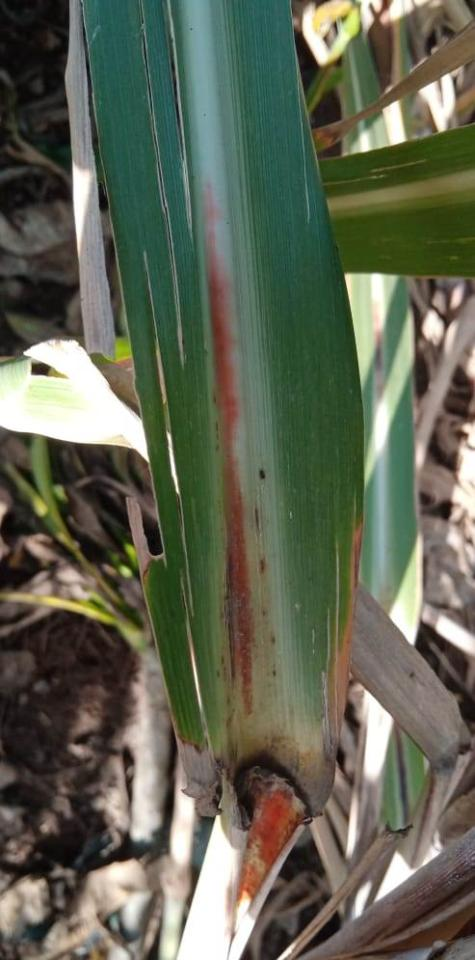RedRot: (204, 176, 258, 720)
Rust: (253, 504, 261, 535), (257, 556, 270, 575), (257, 467, 269, 481), (271, 633, 277, 648), (270, 668, 278, 679), (261, 607, 269, 617), (223, 666, 227, 683), (220, 654, 225, 664), (216, 669, 220, 679)
